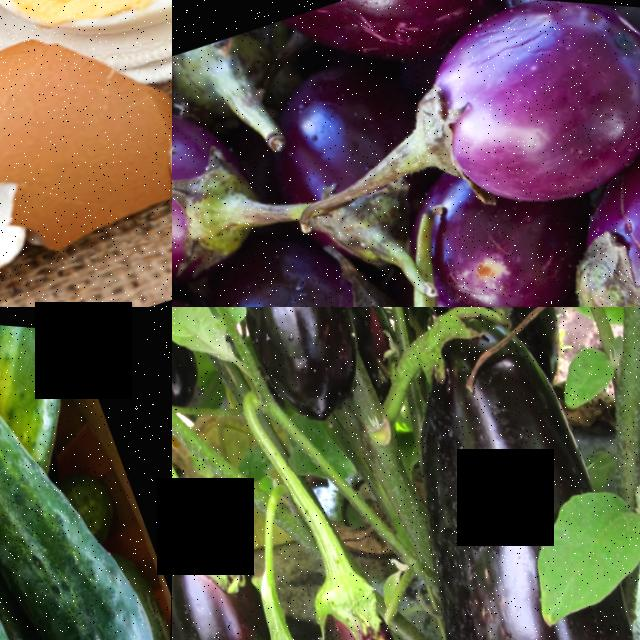cucumber: (0, 426, 172, 640)
egg_: (0, 0, 172, 71)
eggplant: (326, 307, 640, 640), (391, 0, 640, 237), (172, 73, 281, 307), (209, 307, 391, 428), (172, 483, 301, 640), (537, 113, 640, 307), (295, 561, 434, 640)
